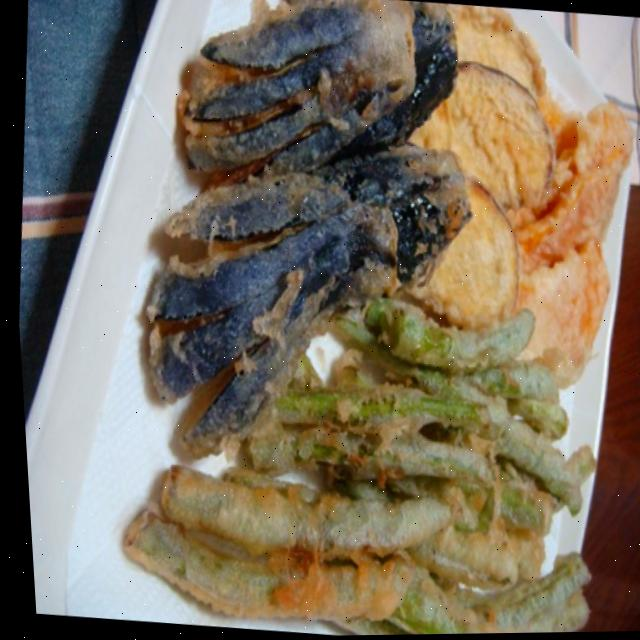蔬菜料理: (58, 0, 640, 639)
